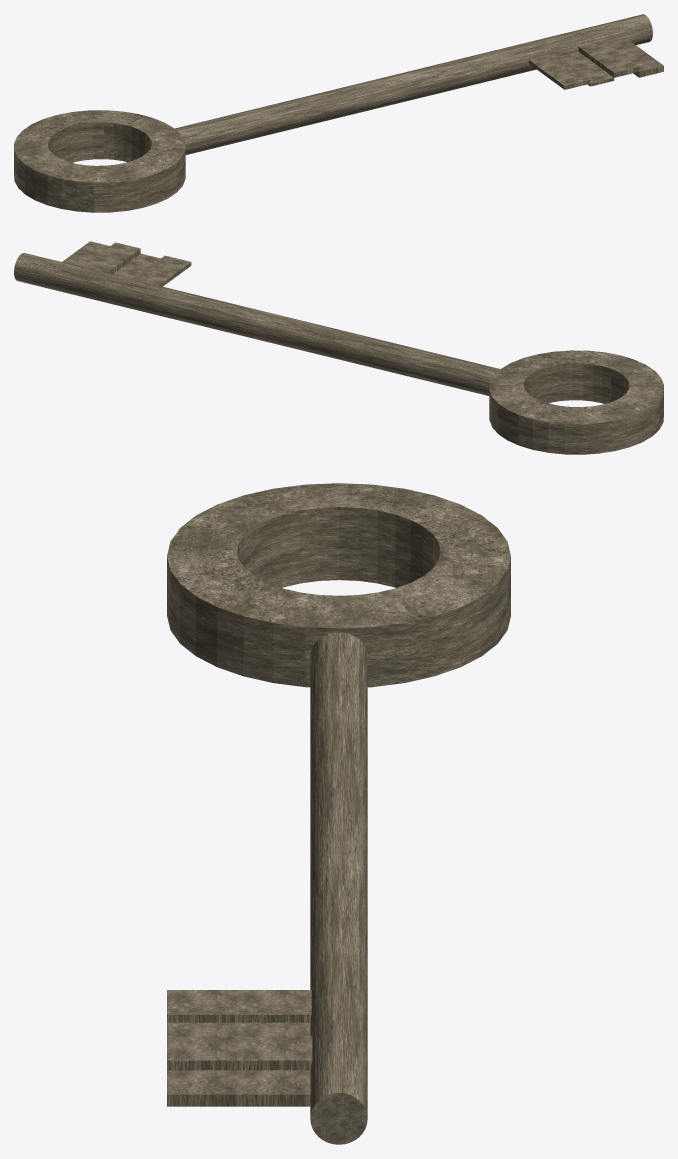
The model's file is Key.glb.
The picture shows the model from 3 angles, top to bottom: view 1: azimuth 30°, elevation 25°; view 2: azimuth 150°, elevation 25°; view 3: azimuth 270°, elevation 25°; orthographic projection. The views are drawn at different scales.
Parts seen in each view (by area): view 1: Cylinder, Cylinder.001, Plane; view 2: Cylinder, Cylinder.001, Plane; view 3: Cylinder, Cylinder.001, Plane.
Boxes of the visible parts, left/top/right/bottom form: Cylinder: left=14, top=110, right=185, bottom=212; Cylinder.001: left=174, top=14, right=652, bottom=154; Plane: left=528, top=39, right=663, bottom=89; Cylinder: left=489, top=350, right=663, bottom=454; Cylinder.001: left=14, top=253, right=500, bottom=395; Plane: left=62, top=241, right=191, bottom=286; Cylinder: left=167, top=483, right=510, bottom=687; Cylinder.001: left=310, top=632, right=367, bottom=1144; Plane: left=167, top=990, right=312, bottom=1106.
Size of the model in its own units: 1.25 by 0.07 by 0.3.
Materials: 1 (1 with a texture image).
